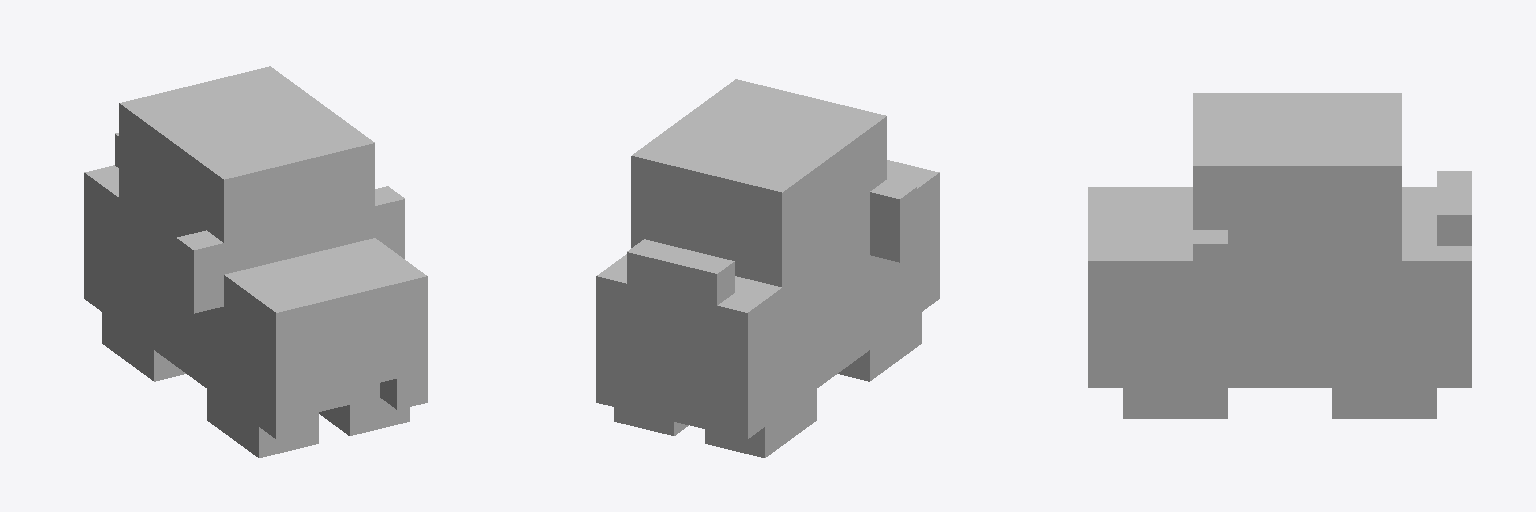
3 views of the same model, side by side, from view 1: azimuth 30°, elevation 25°; view 2: azimuth 150°, elevation 25°; view 3: azimuth 270°, elevation 25° (orthographic).
Parts seen in each view (by area): view 1: Electric; view 2: Electric; view 3: Electric.
Part boxes in pixels (x1,y1,x2,y2): Electric: (84,66,427,457); Electric: (596,79,939,457); Electric: (1088,93,1471,418).
Bounding box in the file's own units: 0.84 × 0.96 × 1.32.